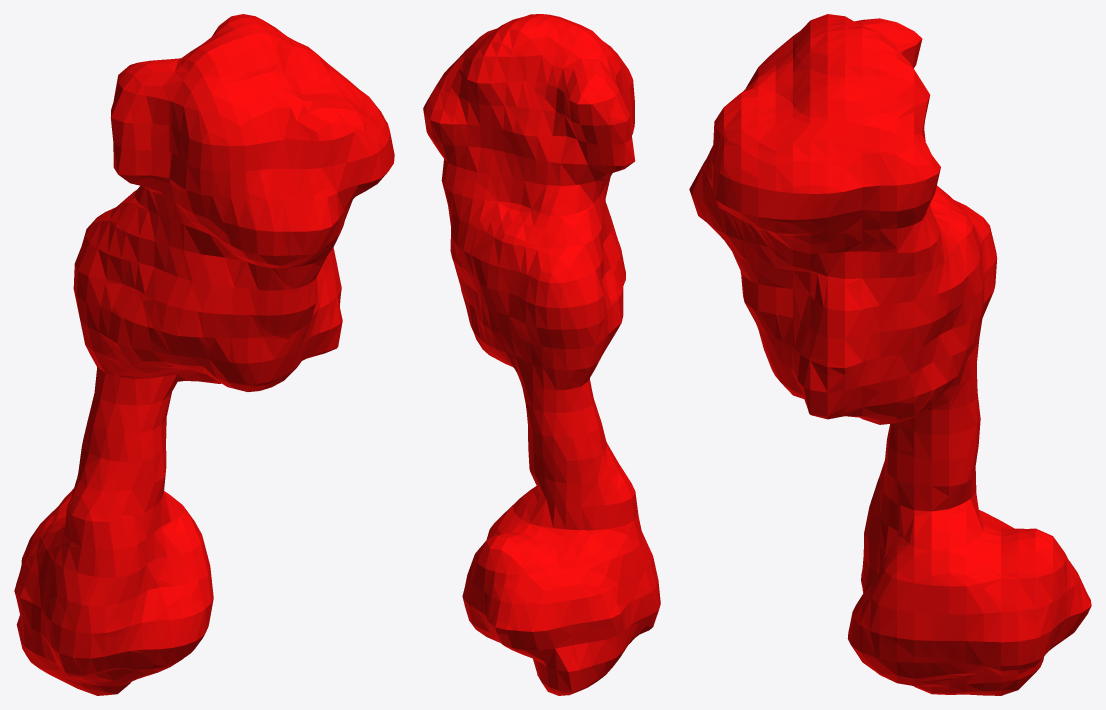
Rendered from oxyR_coarse.dae.
3 renders of one model, left to right at view 1: azimuth 30°, elevation 25°; view 2: azimuth 150°, elevation 25°; view 3: azimuth 270°, elevation 25°, orthographic. The views are drawn at different scales.
Visible parts, largest first — view 1: oxyR; view 2: oxyR; view 3: oxyR.
Part boxes in pixels (x1,y1,x2,y2): oxyR: [14, 14, 394, 695]; oxyR: [423, 14, 660, 695]; oxyR: [689, 14, 1091, 695].
Bounding box in the file's own units: 47.83 × 112 × 56.93.
